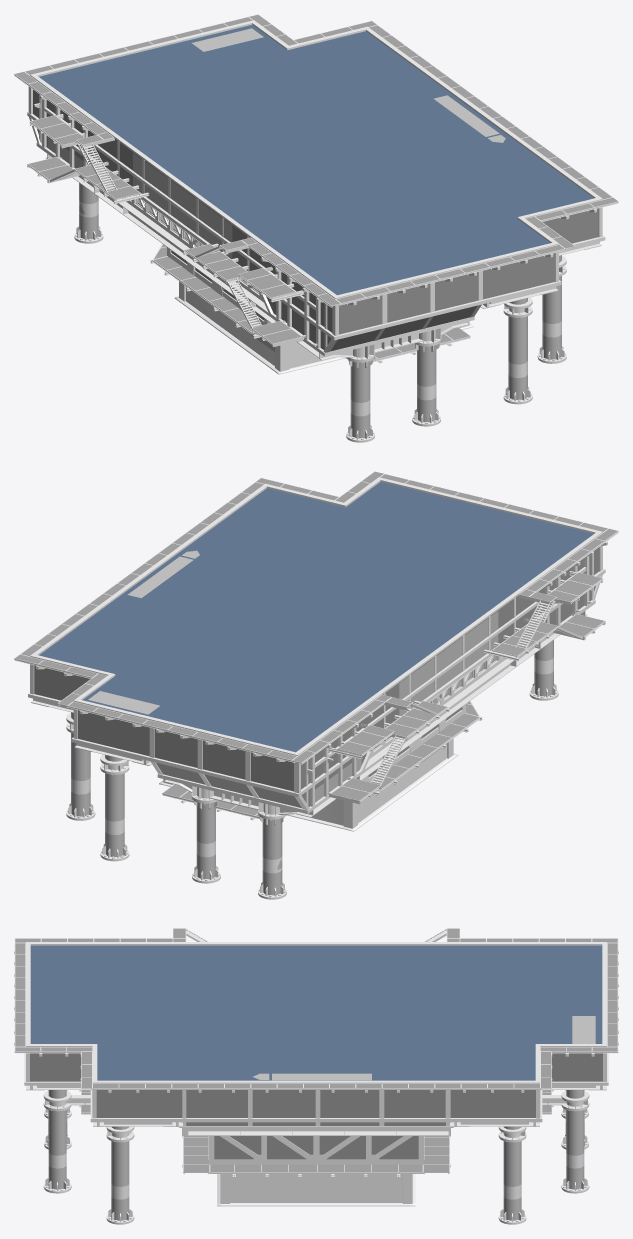
3 views of the same model, one above another, from view 1: azimuth 30°, elevation 25°; view 2: azimuth 150°, elevation 25°; view 3: azimuth 270°, elevation 25° (orthographic). The views are drawn at different scales.
Visible parts, largest first — view 1: SM_H_Industrial_ISS_LaunchLauncher_01B; view 2: SM_H_Industrial_ISS_LaunchLauncher_01B; view 3: SM_H_Industrial_ISS_LaunchLauncher_01B.
Part boxes in pixels (box(x1,y1,x2,y2)): SM_H_Industrial_ISS_LaunchLauncher_01B: box(14, 14, 618, 442); SM_H_Industrial_ISS_LaunchLauncher_01B: box(14, 471, 618, 899); SM_H_Industrial_ISS_LaunchLauncher_01B: box(14, 928, 618, 1224).
Bounding box in the file's own units: 1768 × 1115 × 494.
